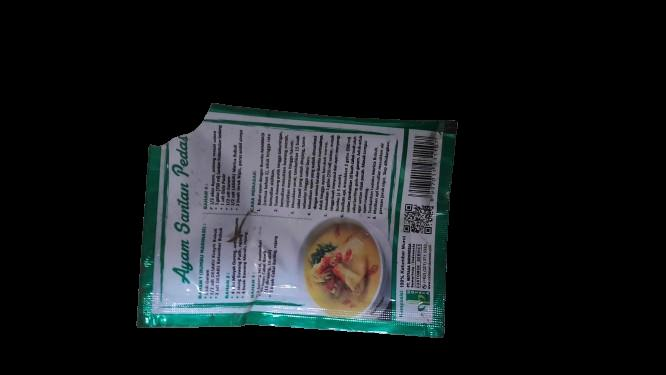Plastik: (132, 89, 458, 347)
